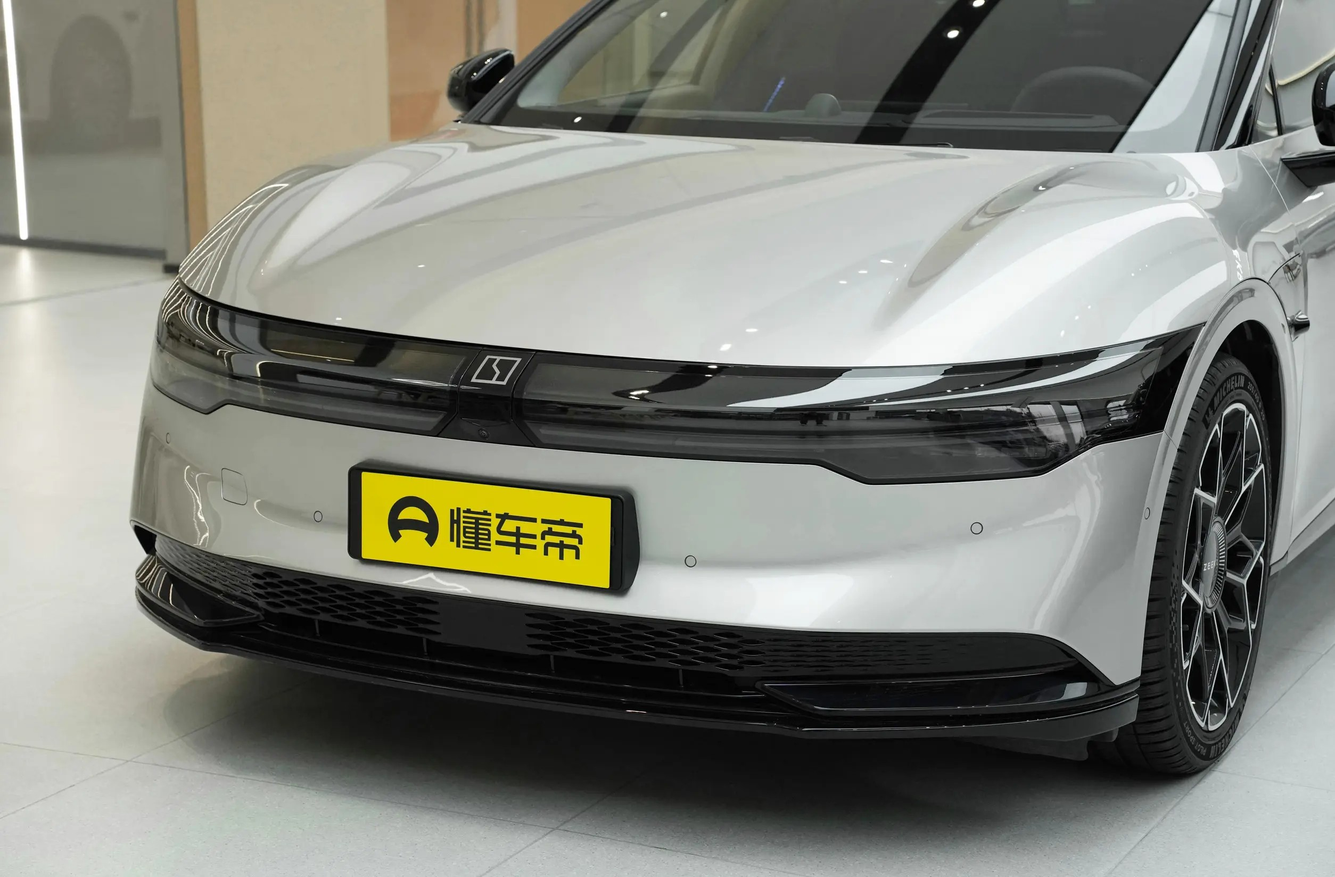ZEEKR: (472, 356, 521, 385)
